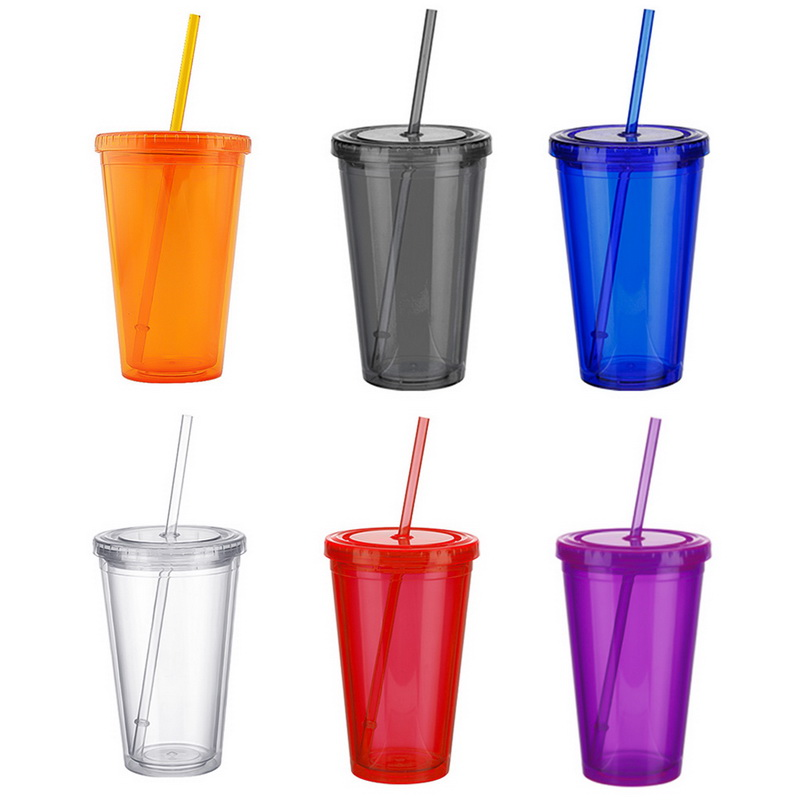plastic: (98, 6, 253, 391)
